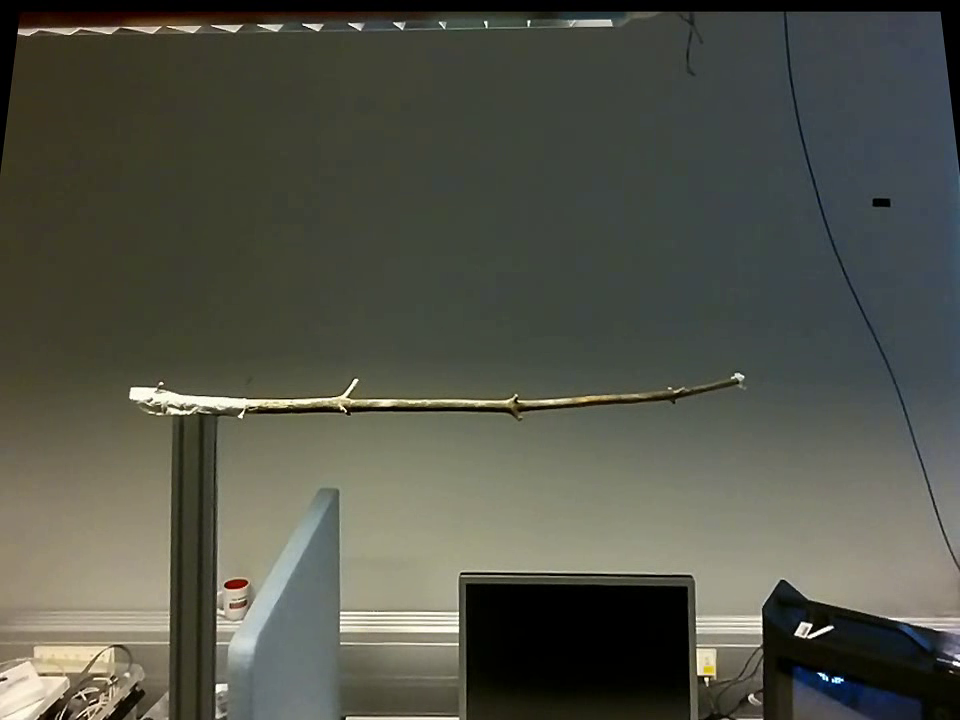aluminum_frame: (164, 419, 220, 719)
branch: (261, 368, 733, 429)
